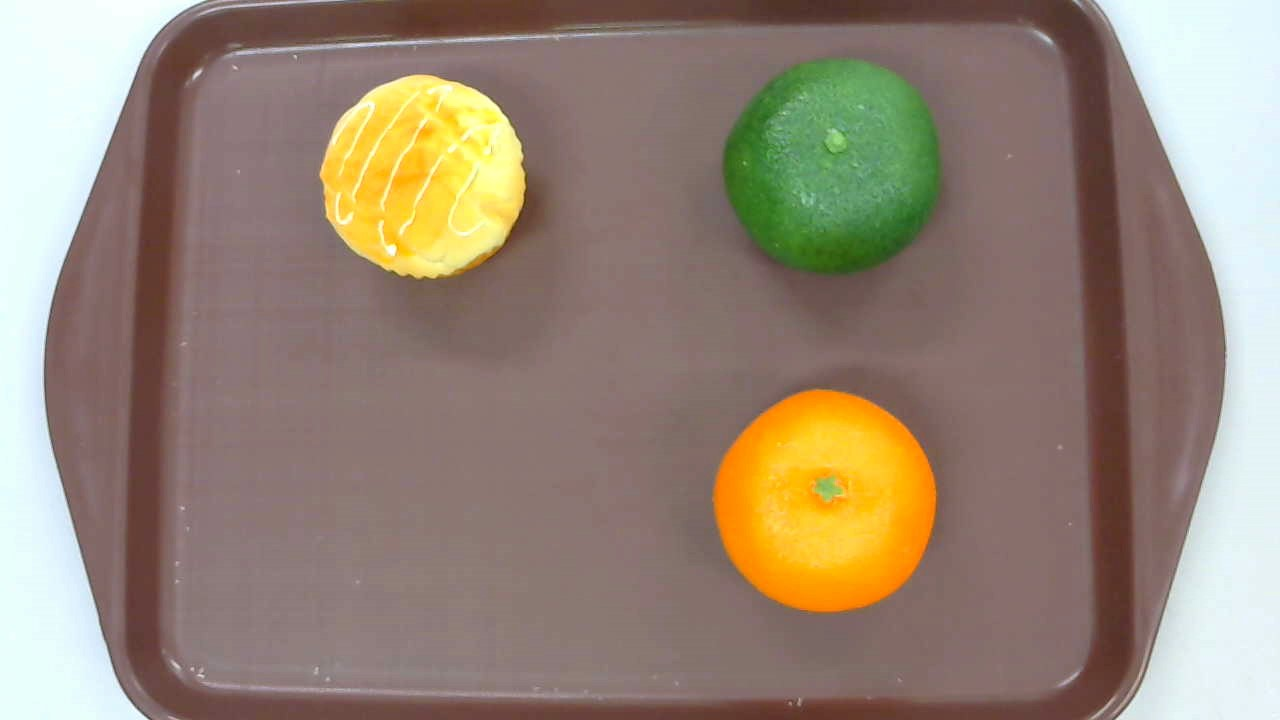cupcake: (317, 74, 528, 281)
green orange: (722, 58, 941, 275)
orange: (712, 388, 935, 612)
